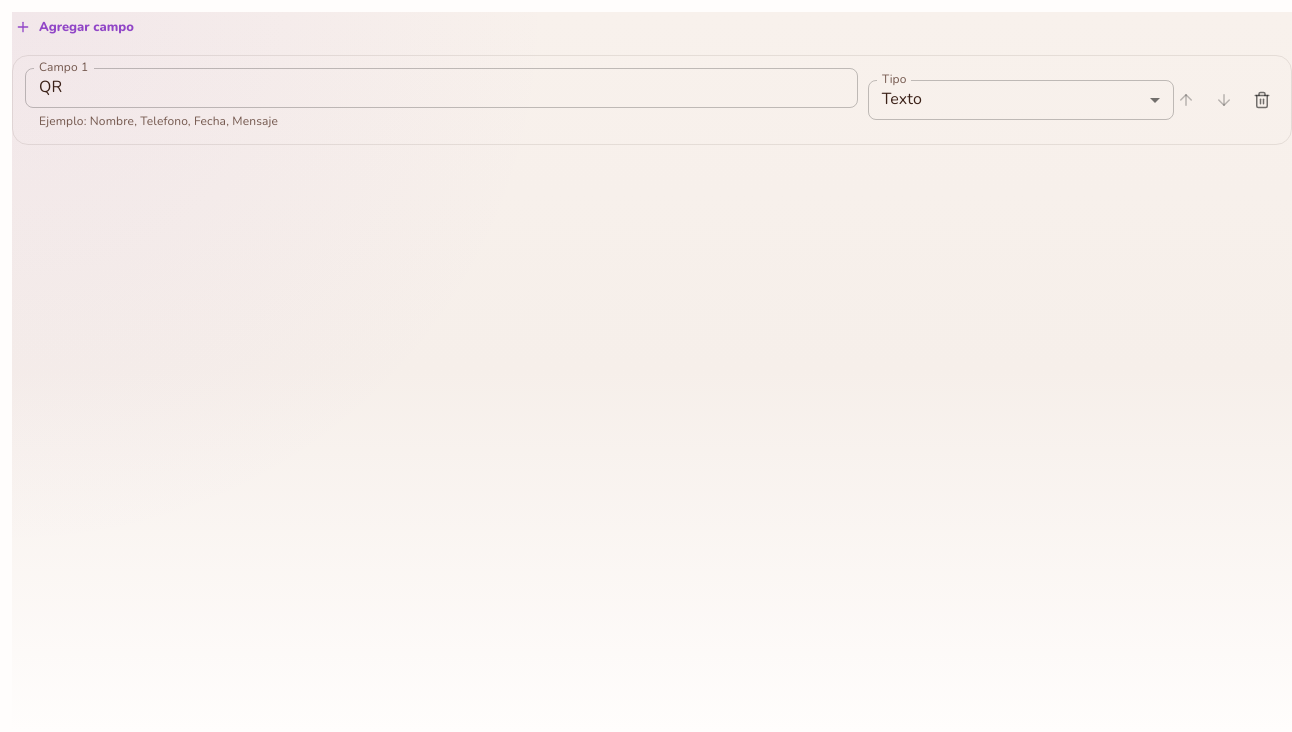
Test: AdminProductFormPage render isolation › updates operational field types between text and boolean
Press the mouse on the dropdown named "Tipo": (902, 99) top-left (882, 88), bottom-right (922, 110)
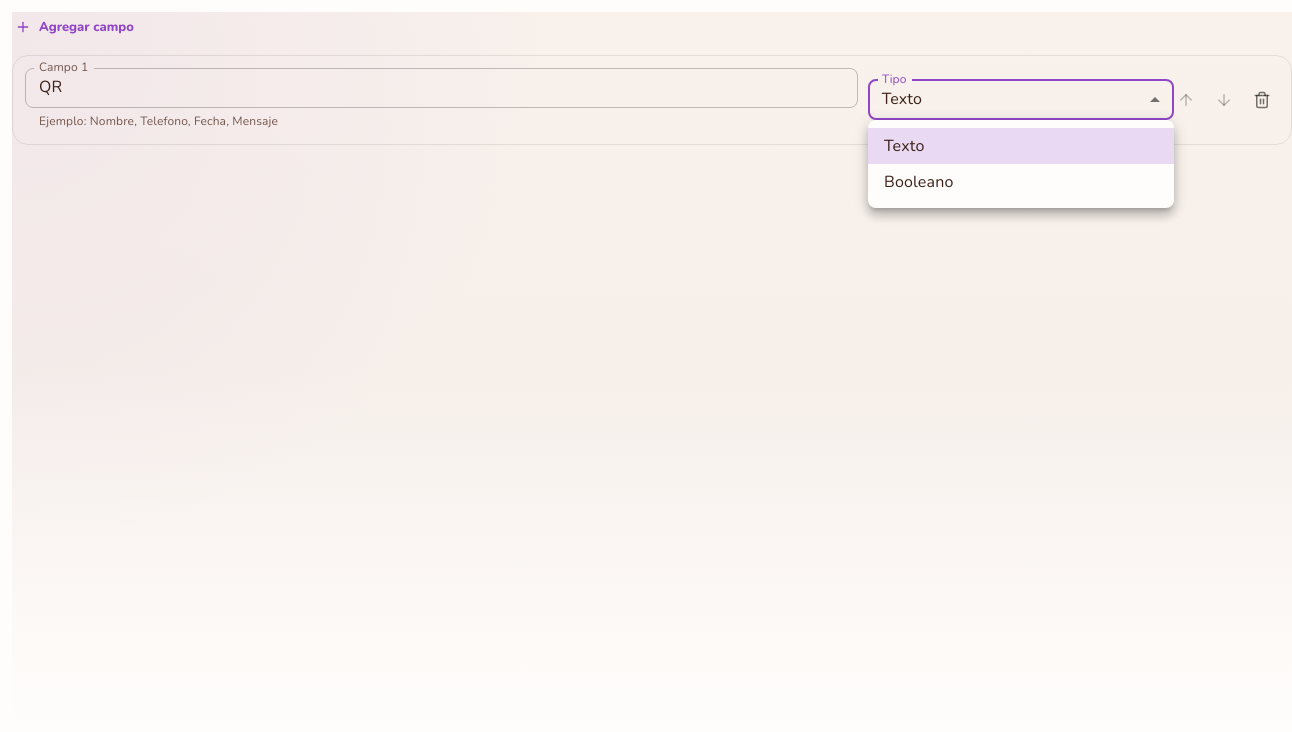
Click the option "Booleano": click(919, 182) top-left (884, 171), bottom-right (954, 193)
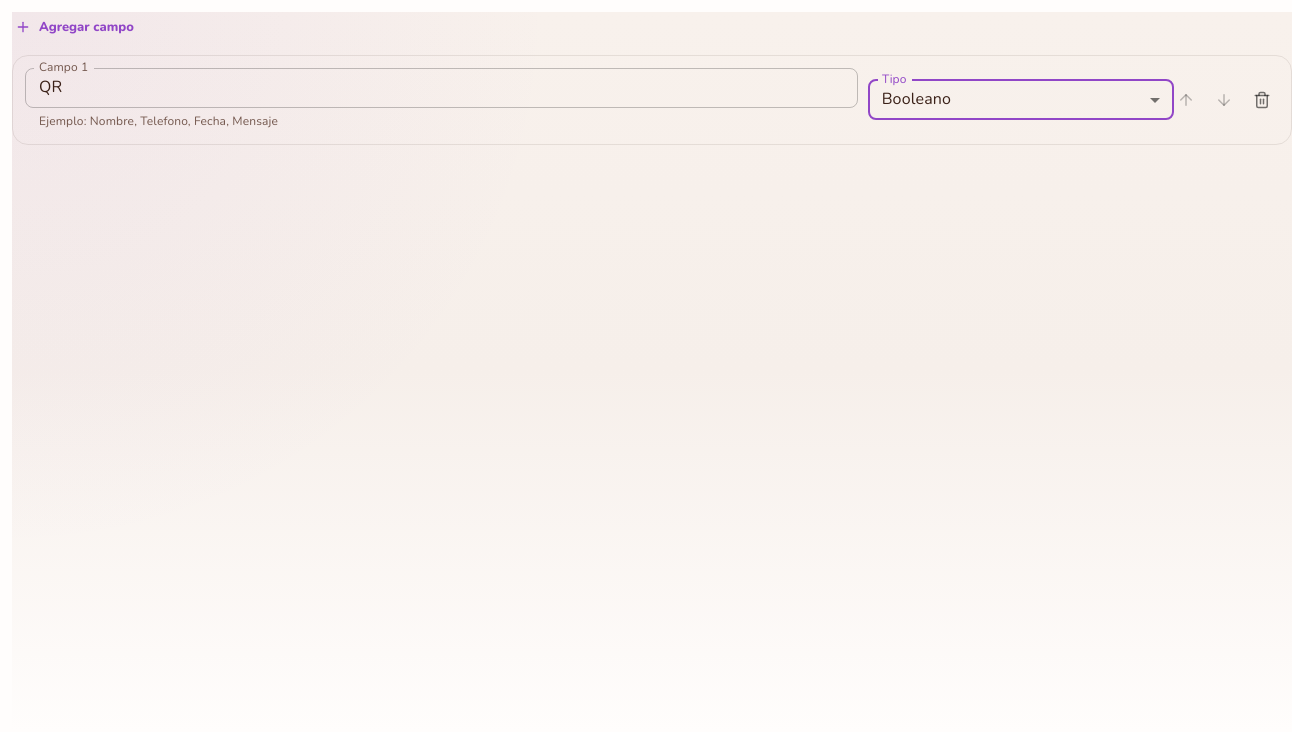
Check: the dropdown named "Tipo" reads "Booleano", box top-left (882, 88), bottom-right (951, 110)
